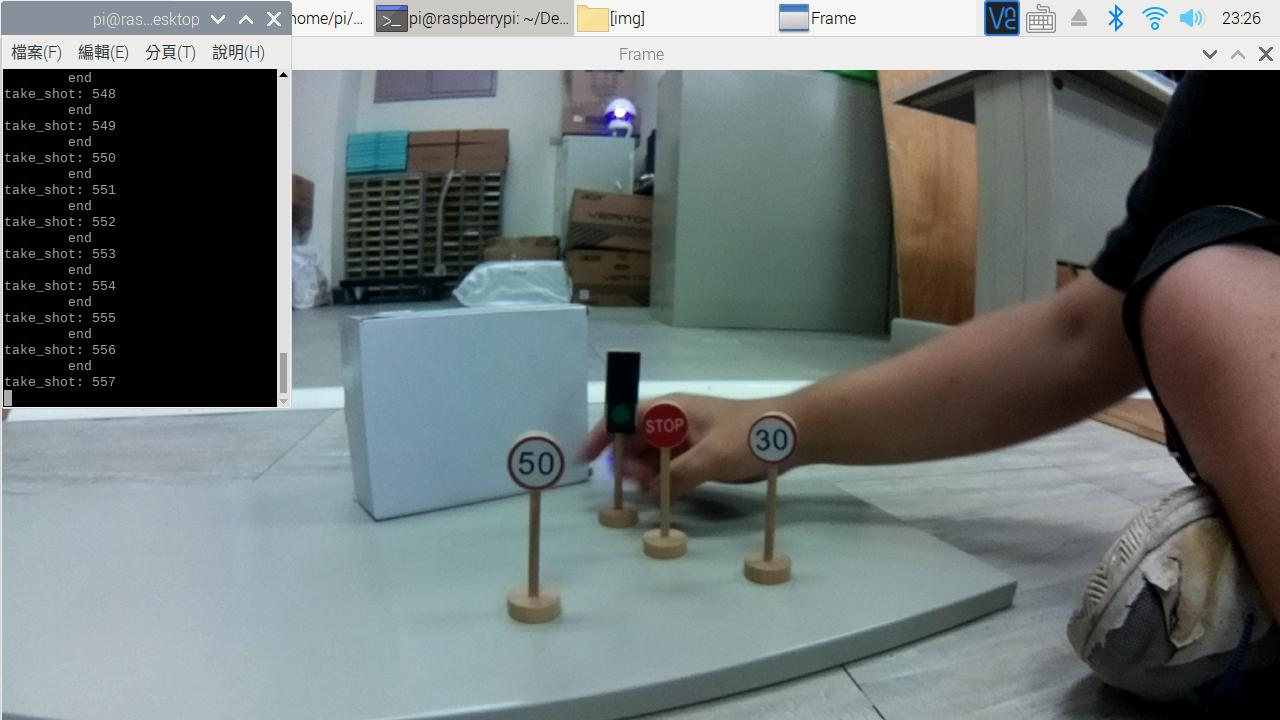Green: (593, 344, 640, 441)
Speed30: (743, 400, 801, 469)
Speed50: (512, 431, 569, 491)
Stop: (640, 395, 696, 456)
